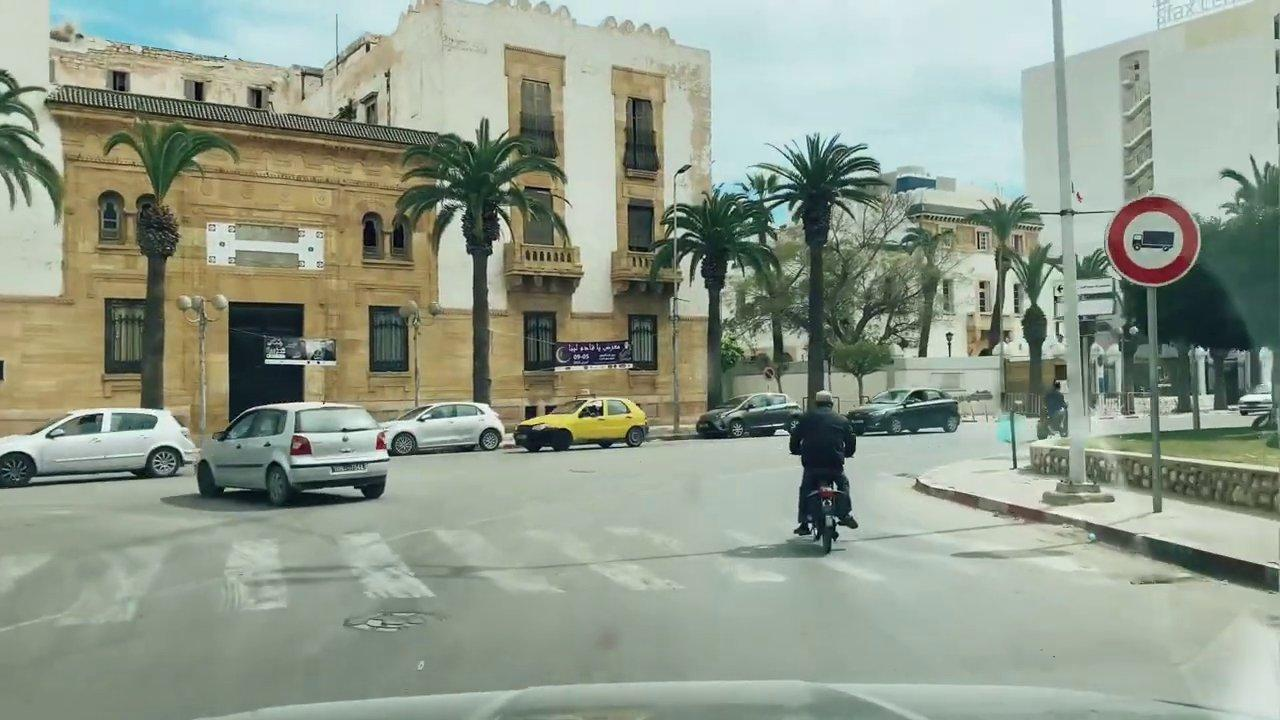no trucks: (1103, 193, 1205, 294)
